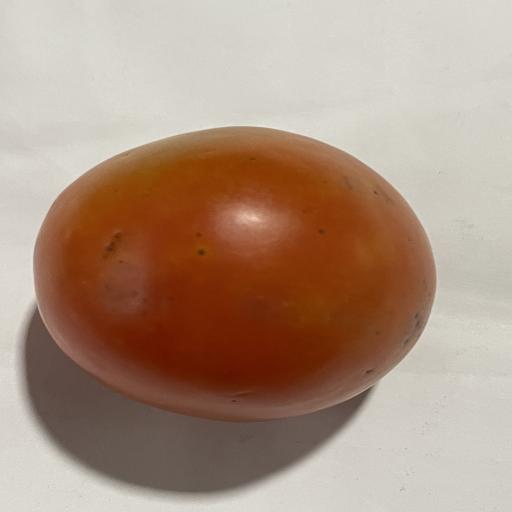ripe: (34, 127, 435, 421)
